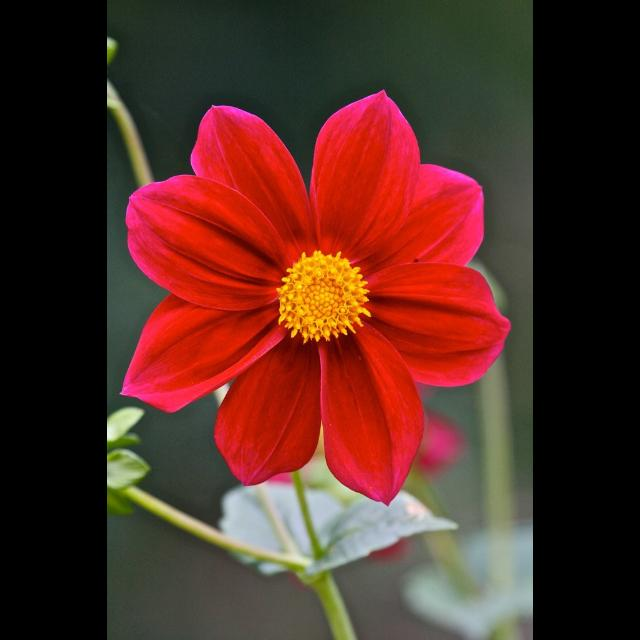Flower: (120, 89, 516, 505)
